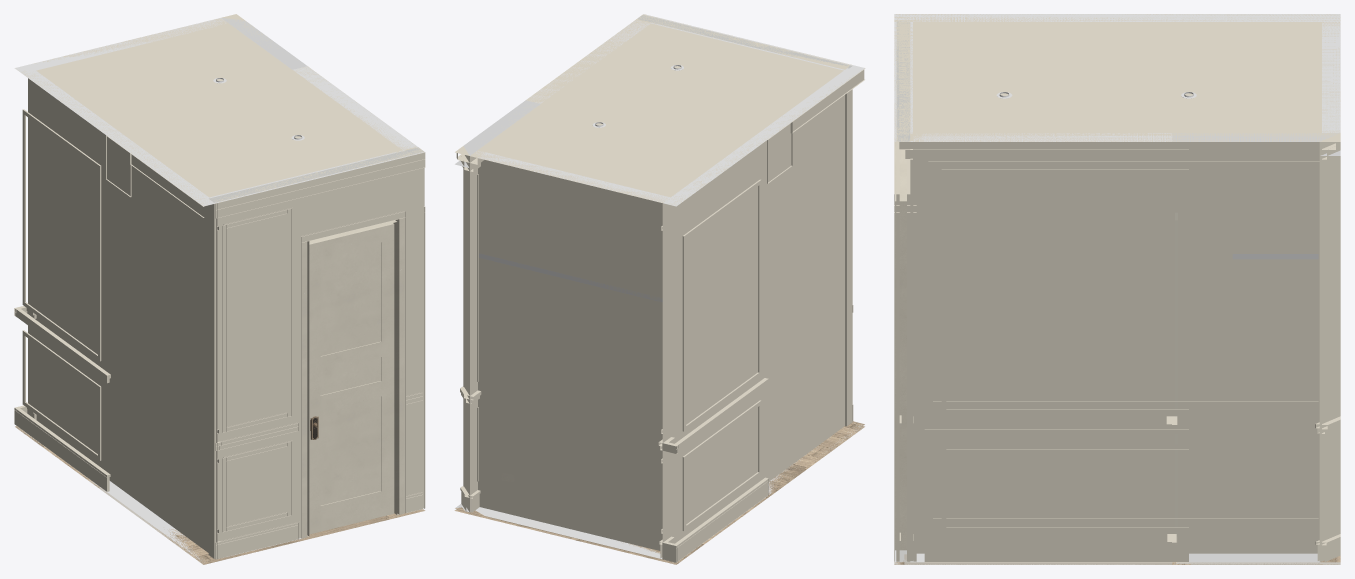
File: loli-closet-f1f07af63980.glb
The picture shows the model from 3 angles, left to right: view 1: azimuth 30°, elevation 25°; view 2: azimuth 150°, elevation 25°; view 3: azimuth 270°, elevation 25°; orthographic projection. The views are drawn at different scales.
Visible parts, largest first — view 1: loli-closet-6a1144f4e43410bb, loli-closet-0e637d2be41161fb, loli-closet-2575515a05775d9e, loli-closet-5b37b110dc0e2cdc, loli-closet-d6b1bc8c737b28e2, loli-closet-e1ae12ec9cba52a2, loli-closet-609bc1027670cc96, loli-closet-8c325fd3303e2546, loli-closet-cff4566edbc5d5ad, loli-closet-9d632b693d1b5808, loli-closet-3b0077416469e01b, loli-closet-03bdd0165789d12b (+16 smaller); view 2: loli-closet-e1ae12ec9cba52a2, loli-closet-6a1144f4e43410bb, loli-closet-2575515a05775d9e, loli-closet-0e637d2be41161fb, loli-closet-1c7325212038a6e7, loli-closet-cff4566edbc5d5ad, loli-closet-3b0077416469e01b, loli-closet-cc15fd6f291c811e, loli-closet-f6f53edb039cffb5, loli-closet-2c29ddcb8551cb02, loli-closet-8bc98920de6516ce, loli-closet-507cee9bdbce9ceb (+6 smaller); view 3: loli-closet-03bdd0165789d12b, loli-closet-1c7325212038a6e7, loli-closet-2575515a05775d9e, loli-closet-1bcbe5547b2cfbdc, loli-closet-92c333610bf7beb4, loli-closet-a8b6749dbb482e83, loli-closet-aaf71131b60d1226, loli-closet-b6646e2e222b858d, loli-closet-0b1205313859304a, loli-closet-b000e8b10159de15, loli-closet-6a1144f4e43410bb, loli-closet-d6b1bc8c737b28e2 (+12 smaller).
Boxes of the visible parts, x1,y1,x2,y2 form: loli-closet-6a1144f4e43410bb: (15, 65, 215, 562); loli-closet-0e637d2be41161fb: (208, 146, 424, 559); loli-closet-2575515a05775d9e: (16, 14, 424, 205); loli-closet-5b37b110dc0e2cdc: (309, 223, 394, 534); loli-closet-d6b1bc8c737b28e2: (302, 218, 404, 538); loli-closet-e1ae12ec9cba52a2: (28, 18, 226, 408); loli-closet-609bc1027670cc96: (215, 152, 425, 218); loli-closet-8c325fd3303e2546: (222, 209, 291, 432); loli-closet-cff4566edbc5d5ad: (22, 109, 101, 361); loli-closet-9d632b693d1b5808: (307, 219, 398, 536); loli-closet-3b0077416469e01b: (15, 426, 424, 564); loli-closet-03bdd0165789d12b: (293, 66, 416, 149); loli-closet-e1ae12ec9cba52a2: (470, 151, 670, 558); loli-closet-6a1144f4e43410bb: (662, 65, 864, 543); loli-closet-2575515a05775d9e: (455, 14, 864, 205); loli-closet-0e637d2be41161fb: (637, 14, 852, 426); loli-closet-1c7325212038a6e7: (463, 100, 540, 511); loli-closet-cff4566edbc5d5ad: (682, 179, 761, 431); loli-closet-3b0077416469e01b: (454, 421, 864, 564); loli-closet-cc15fd6f291c811e: (470, 24, 655, 171); loli-closet-f6f53edb039cffb5: (682, 400, 761, 530); loli-closet-2c29ddcb8551cb02: (676, 478, 768, 562); loli-closet-8bc98920de6516ce: (767, 122, 792, 183); loli-closet-507cee9bdbce9ceb: (673, 378, 768, 453); loli-closet-03bdd0165789d12b: (913, 133, 1172, 562); loli-closet-1c7325212038a6e7: (1172, 133, 1340, 562); loli-closet-2575515a05775d9e: (894, 14, 1340, 141); loli-closet-1bcbe5547b2cfbdc: (924, 542, 1188, 562); loli-closet-92c333610bf7beb4: (928, 161, 1319, 405); loli-closet-a8b6749dbb482e83: (916, 534, 1319, 553); loli-closet-aaf71131b60d1226: (913, 141, 1188, 159); loli-closet-b6646e2e222b858d: (928, 436, 1319, 523); loli-closet-0b1205313859304a: (941, 169, 1188, 414); loli-closet-b000e8b10159de15: (916, 416, 1319, 425); loli-closet-6a1144f4e43410bb: (894, 14, 1340, 21); loli-closet-d6b1bc8c737b28e2: (895, 142, 906, 550).
Bounding box in the file's own units: 1.95 × 3.03 × 2.88.
Materials: 18 (3 with a texture image).
